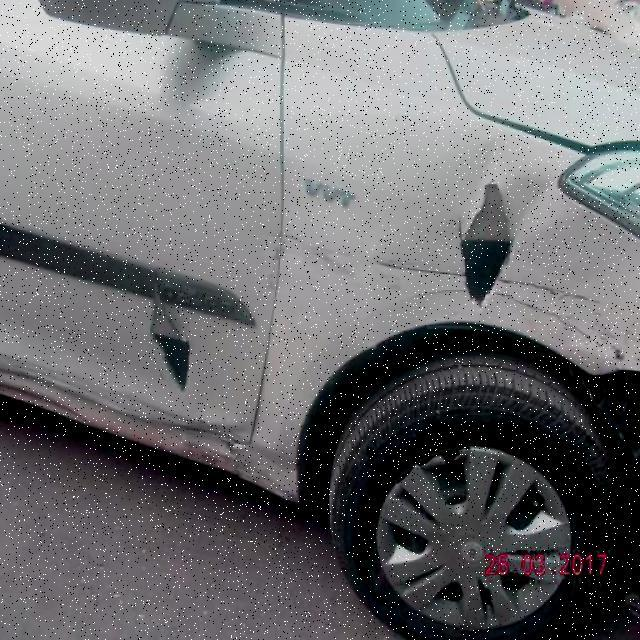car damage: (0, 354, 294, 494), (263, 230, 460, 303), (501, 271, 640, 367), (458, 178, 520, 308), (143, 263, 198, 388)
